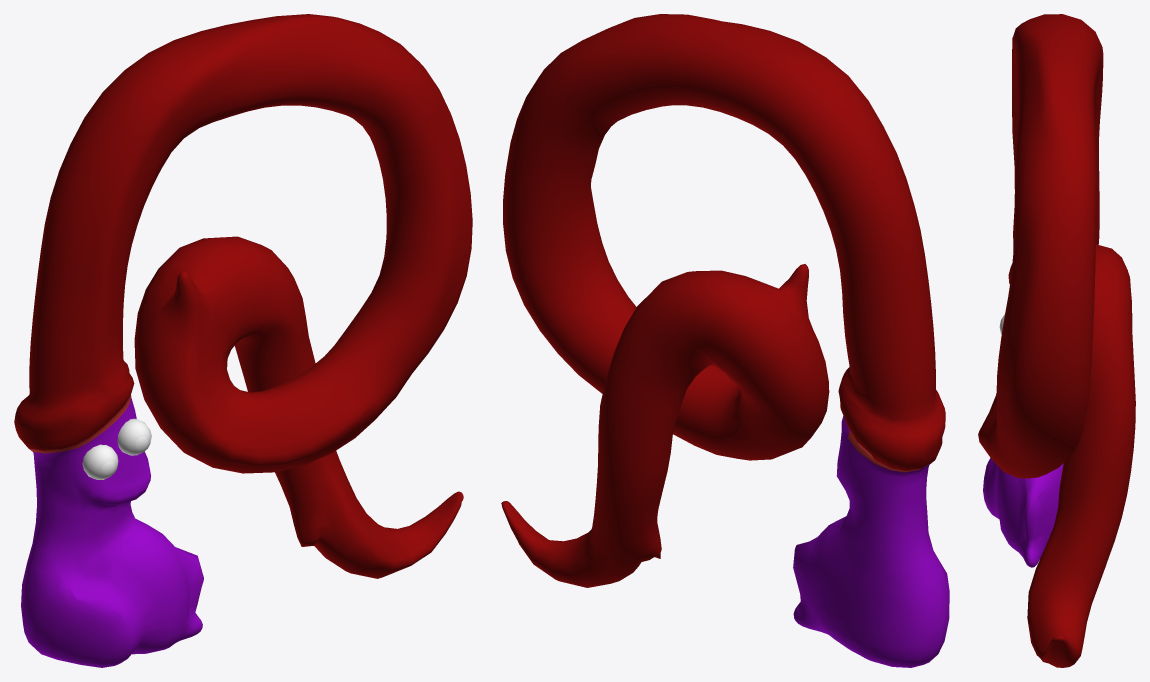
3 views of the same model, side by side, from view 1: azimuth 30°, elevation 25°; view 2: azimuth 150°, elevation 25°; view 3: azimuth 270°, elevation 25° (orthographic). The views are drawn at different scales.
Parts seen in each view (by area): view 1: Line011, Sphere070, Sphere071; view 2: Line011; view 3: Line011.
Boxes of the visible parts, <box> form: Line011: <box>14,14,472,667</box>; Sphere070: <box>82,444,118,479</box>; Sphere071: <box>117,418,151,455</box>; Line011: <box>501,14,949,667</box>; Line011: <box>978,14,1135,667</box>.
Bounding box in the file's own units: 0.1274 × 0.1633 × 0.0419.
